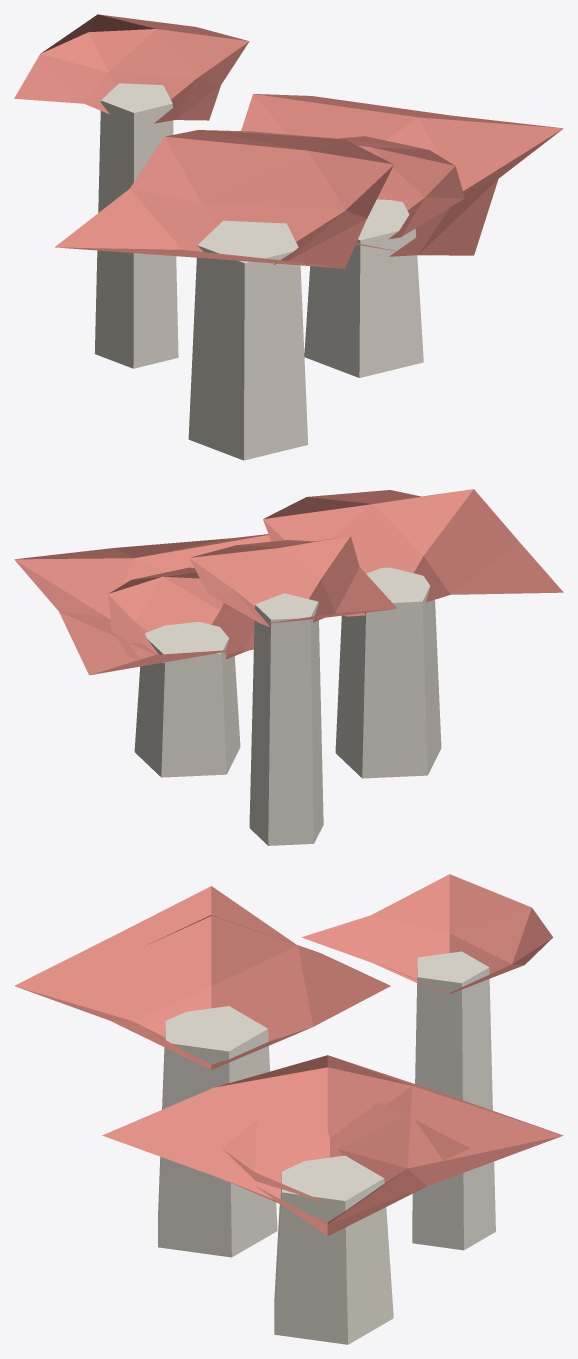
Rendered from mushroom_v02.glb.
3 renders of one model, top to bottom at view 1: azimuth 30°, elevation 25°; view 2: azimuth 150°, elevation 25°; view 3: azimuth 270°, elevation 25°, orthographic. The views are drawn at different scales.
Visible parts, largest first — view 1: lod0; view 2: lod0; view 3: lod0.
Part boxes in pixels (x1,y1,x2,y2): lod0: (14,14,563,460); lod0: (14,489,563,845); lod0: (14,874,563,1344).
Size of what is drawn, in the model's own units: 0.7947 by 0.4423 by 0.6408.
